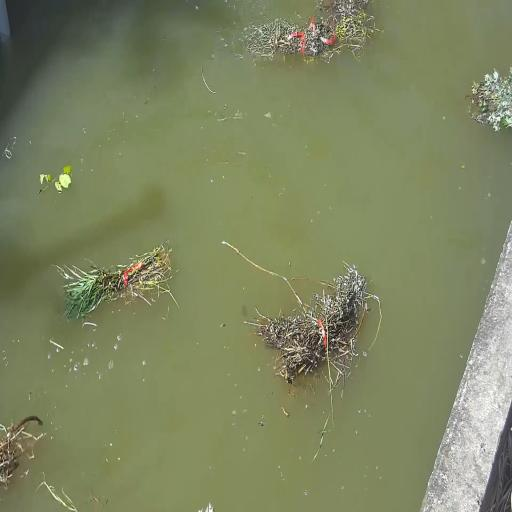twig: (254, 255, 368, 411), (55, 236, 181, 326), (246, 0, 376, 66), (0, 414, 57, 498), (456, 60, 512, 126), (34, 148, 76, 210)
